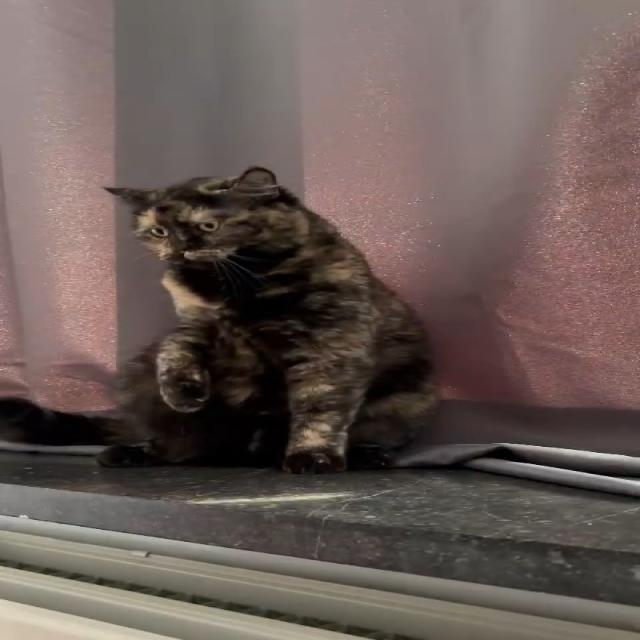authorized: (95, 164, 440, 474)
